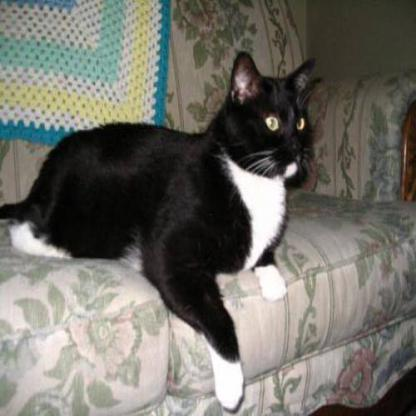cat: (27, 50, 354, 366)
